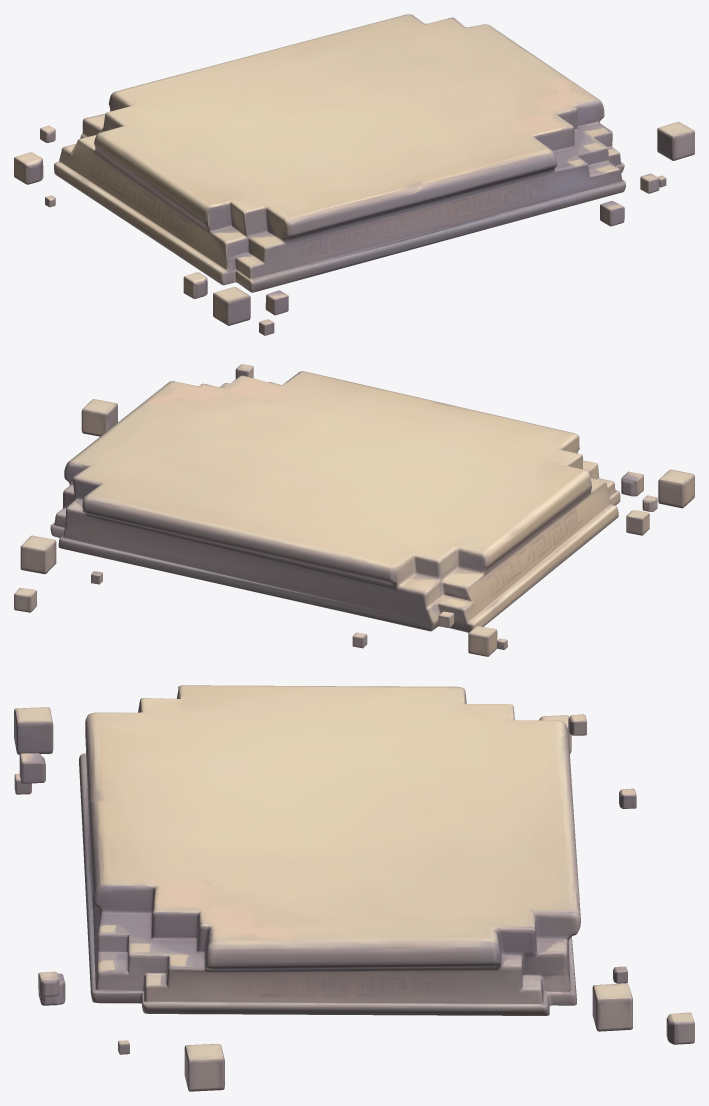
Rendered from SM_Table_01.fbx.
3 renders of one model, top to bottom at view 1: azimuth 30°, elevation 25°; view 2: azimuth 150°, elevation 25°; view 3: azimuth 270°, elevation 25°, orthographic. The views are drawn at different scales.
Parts seen in each view (by area): view 1: SM_Table_01; view 2: SM_Table_01; view 3: SM_Table_01.
Part boxes in pixels (box(x1,y1,x2,y2)): SM_Table_01: box(14, 14, 694, 335); SM_Table_01: box(14, 364, 694, 656); SM_Table_01: box(14, 685, 694, 1091).
Size of the model in its own units: 307 by 49.28 by 255.
1 material, 1 textured.
